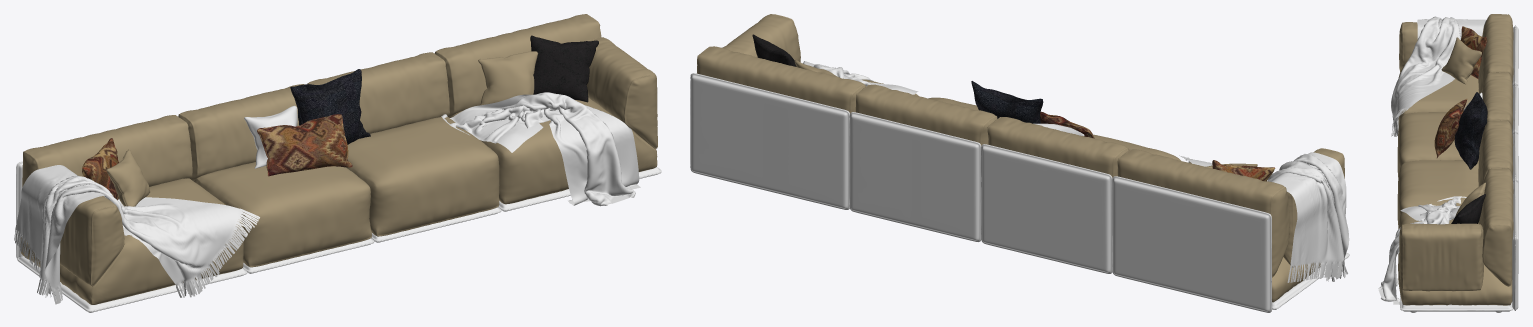
Rendered from Sofa1.fbx.
3 renders of one model, left to right at view 1: azimuth 30°, elevation 25°; view 2: azimuth 150°, elevation 25°; view 3: azimuth 270°, elevation 25°, orthographic. The views are drawn at different scales.
Parts seen in each view (by area): view 1: Sofa, throw, Sofa.004, Sofa.003, throw.001, Sofa.001, Sofa.002, cushion.004, Sofa.008, cushion.003, cushion.006, cushion (+3 smaller); view 2: Sofa.006, Sofa.007, Sofa.004, Sofa.003, throw, Sofa.002, cushion.006, Sofa.001, cushion.003, Sofa, cushion.002, throw.001 (+2 smaller); view 3: Sofa.002, Sofa, Sofa.004, throw, Sofa.001, Sofa.003, throw.001, cushion.006, Sofa.006, cushion.001, cushion.004, Sofa.008 (+4 smaller).
Boxes of the visible parts, box(x1,y1,x2,y2) form: Sofa: box(194, 116, 499, 267); throw: box(14, 165, 259, 304); Sofa.004: box(22, 14, 601, 186); Sofa.003: box(178, 52, 449, 181); throw.001: box(441, 92, 640, 206); Sofa.001: box(20, 98, 657, 304); Sofa.002: box(60, 37, 657, 286); cushion.004: box(257, 114, 352, 176); Sofa.008: box(17, 167, 661, 312); cushion.003: box(530, 35, 598, 102); cushion.006: box(290, 69, 370, 144); cushion: box(478, 51, 538, 105); Sofa.006: box(690, 73, 1272, 312); Sofa.007: box(849, 112, 1112, 273); Sofa.004: box(697, 46, 1289, 277); Sofa.003: box(855, 84, 1128, 177); throw: box(1179, 152, 1349, 282); Sofa.002: box(722, 14, 1344, 267); cushion.006: box(971, 81, 1043, 123); Sofa.001: box(862, 79, 1320, 302); cushion.003: box(752, 34, 796, 66); Sofa: box(928, 97, 1180, 160); cushion.002: box(1212, 160, 1275, 181); throw.001: box(803, 61, 918, 94); Sofa.002: box(1399, 22, 1483, 291); Sofa: box(1397, 112, 1478, 228); Sofa.004: box(1478, 14, 1513, 286); throw: box(1391, 16, 1486, 136); Sofa.001: box(1398, 66, 1512, 305); Sofa.003: box(1478, 72, 1513, 186); throw.001: box(1378, 196, 1466, 304); cushion.006: box(1454, 92, 1487, 169); Sofa.006: box(1512, 25, 1518, 310); cushion.001: box(1441, 37, 1481, 84); cushion.004: box(1434, 99, 1467, 157); Sofa.008: box(1400, 293, 1513, 312).
Bounding box in the file's own units: 383 × 83.29 × 101.
Materials: 10 (3 with a texture image).
